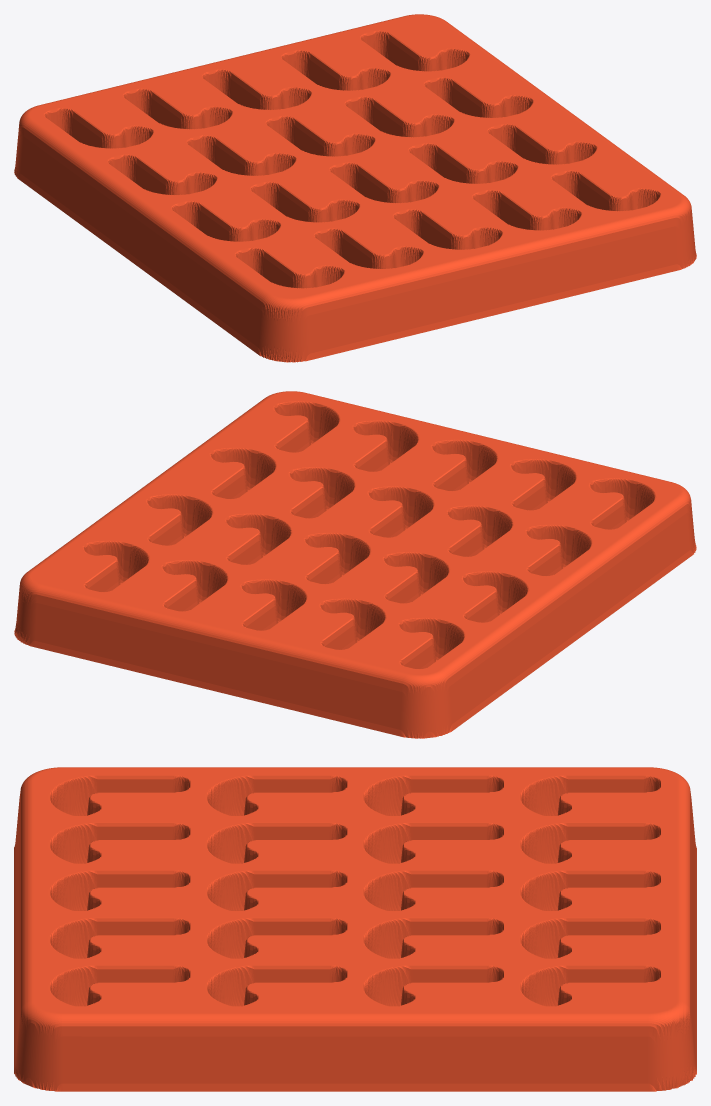
File: mold.glb
The picture shows the model from 3 angles, top to bottom: view 1: azimuth 30°, elevation 25°; view 2: azimuth 150°, elevation 25°; view 3: azimuth 270°, elevation 25°; orthographic projection. The views are drawn at different scales.
Visible parts, largest first — view 1: geometry_0; view 2: geometry_0; view 3: geometry_0.
Boxes of the visible parts, x1,y1,x2,y2 form: geometry_0: (14, 14, 696, 362); geometry_0: (14, 391, 696, 738); geometry_0: (14, 767, 696, 1091).
Size of the model in its own units: 0.1156 by 0.0145 by 0.1278.
